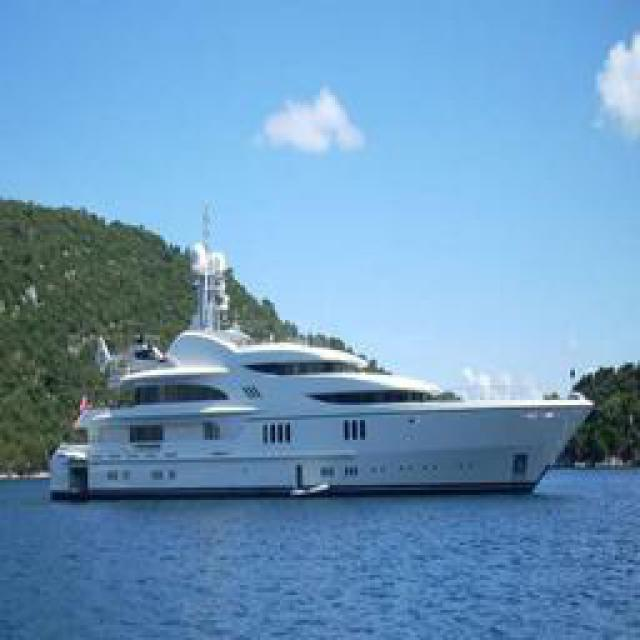Ship: (61, 327, 596, 500)
